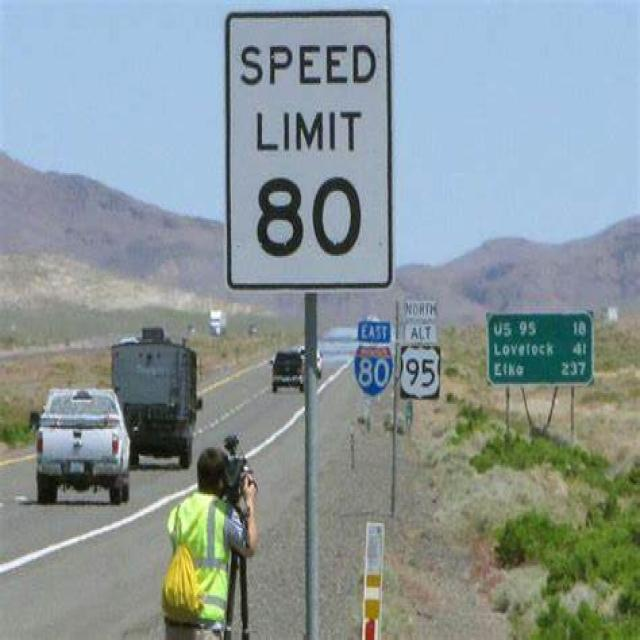speedLimit80: (220, 11, 398, 294)
